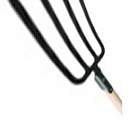Fork: (8, 1, 128, 128)
